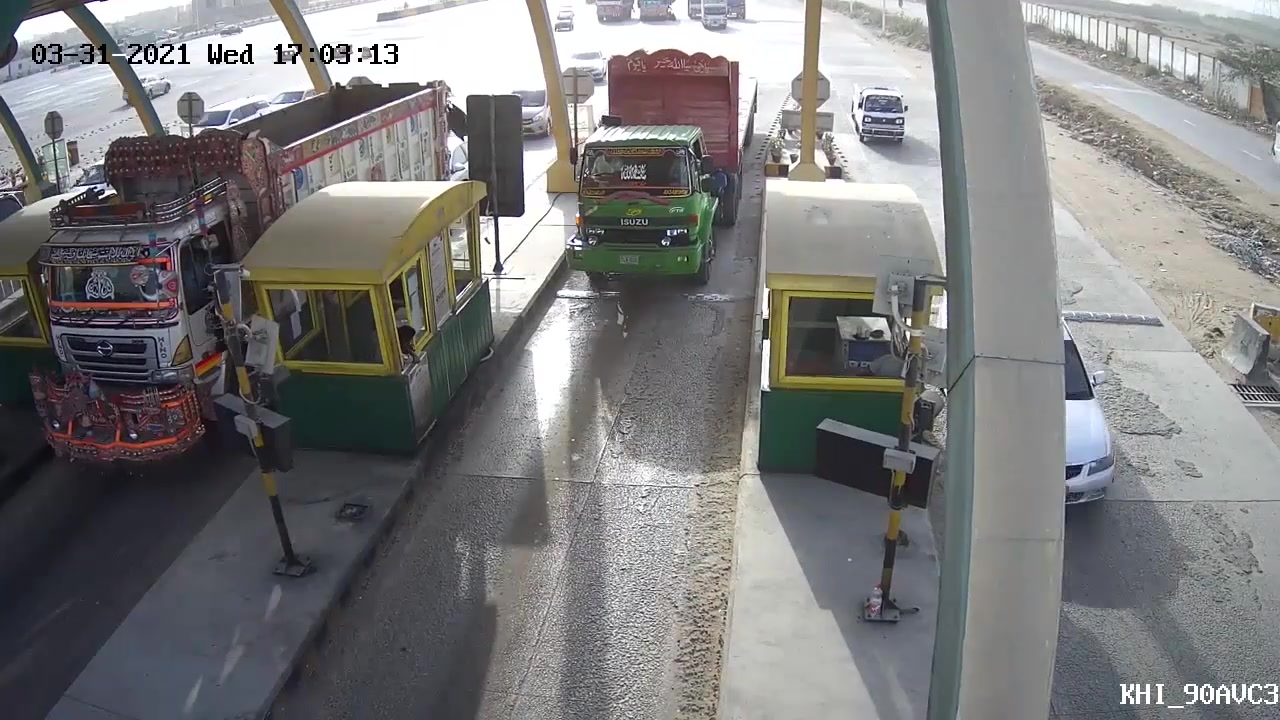F6: (564, 49, 764, 292)
